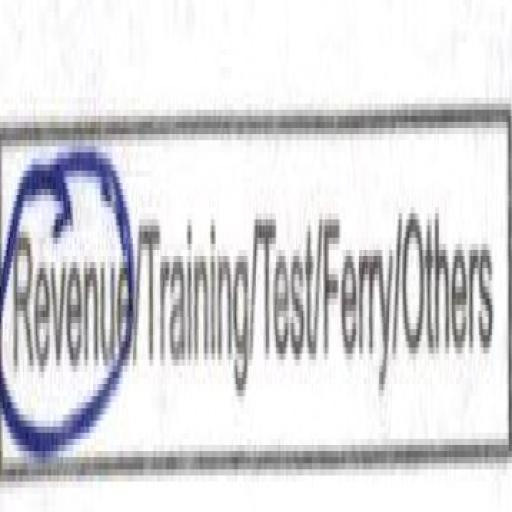check: (0, 104, 137, 488)
